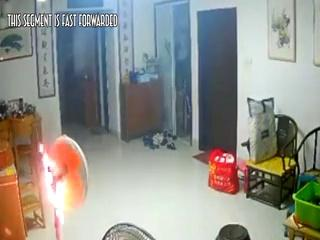Fire: (42, 147, 74, 223)
